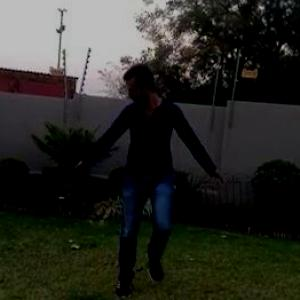land: (72, 57, 236, 299)
